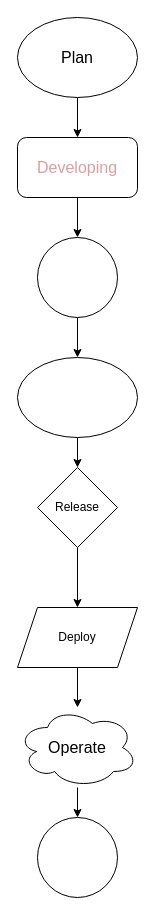
Image size: 155x915. Some labels were removed from this diagram. The centre of each missing label's shape, as x and y in pixels:
Build: pixel 77 277
Monitor: pixel 77 857
Testing: pixel 77 397
